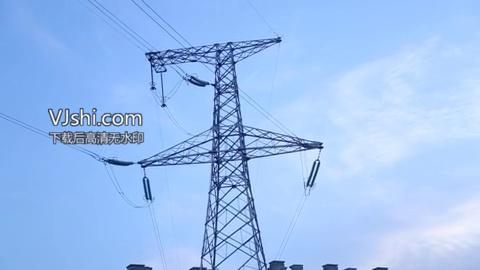tower_body: (134, 32, 324, 270)
tower_foot: (201, 210, 269, 269)
tower_head: (141, 36, 285, 72)
